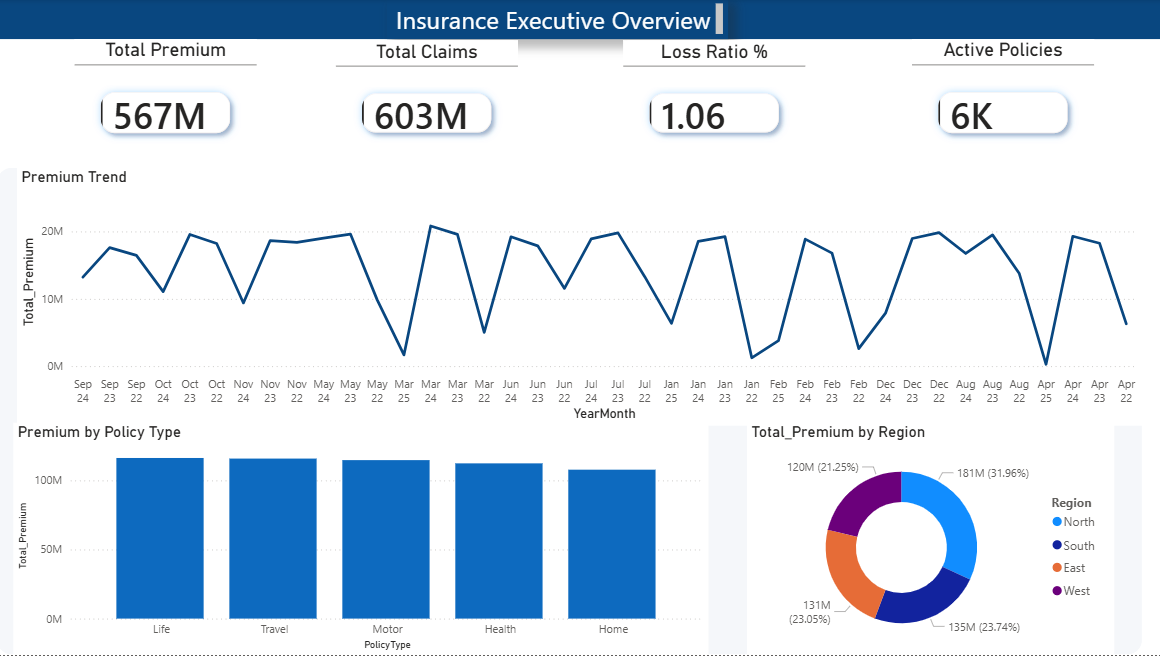

The page's visual inventory and layout, read from the dashboard file:
{"tool":"powerbi","page":{"name":"Page 1","canvas":[1280,720],"ordinal":0},"visuals":[{"type":"shape","box":[0,185.7,1257.1,534.3],"z":0},{"type":"shape","box":[0,0,1280,44],"z":1000},{"type":"lineChart","title":"Premium Trend","fields":{"Category":["DateTable.YearMonth"],"Y":["Measure_Table.Total_Premium"]},"box":[21.4,185.7,1235.7,282.9],"z":2000},{"type":"cardVisual","title":"Total Premium","fields":{"Data":["Measure_Table.Total_Premium"]},"box":[85.7,44.3,200,131.4],"z":3000},{"type":"lineClusteredColumnComboChart","title":"Premium by Policy Type","fields":{"Category":["Dim_Policy.PolicyType"],"Y":["Measure_Table.Total_Premium"]},"box":[18.3,465,763.3,255],"z":4000},{"type":"textbox","box":[428,0,374,44],"z":5000},{"type":"cardVisual","title":"Total Claims","fields":{"Data":["Measure_Table.Total_Claims_Amount"]},"box":[371.4,45.7,200,130],"z":6000},{"type":"cardVisual","title":"Loss Ratio %","fields":{"Data":["Measure_Table.Loss Ratio %"]},"box":[687.1,45.7,200,130],"z":7000},{"type":"cardVisual","title":"Active Policies","fields":{"Data":["Measure_Table.Active_Policies"]},"box":[1004.3,44.3,200,131.4],"z":8000},{"type":"donutChart","fields":{"Category":["Dim_Agent.Region"],"Y":["Measure_Table.Total_Premium"]},"box":[823.3,465,403.3,255],"z":8001}]}

Visuals, with their boxes in screenshot pixels (x1, y1, x2, y2), scaled from the page's 1280x720 canvas onto the 1160x656 screenshot:
shape: {"x1": 0, "y1": 169, "x2": 1139, "y2": 655}
shape: {"x1": 0, "y1": 0, "x2": 1159, "y2": 40}
"Premium Trend" lineChart: {"x1": 19, "y1": 169, "x2": 1139, "y2": 427}
"Total Premium" cardVisual: {"x1": 78, "y1": 40, "x2": 259, "y2": 160}
"Premium by Policy Type" lineClusteredColumnComboChart: {"x1": 17, "y1": 424, "x2": 708, "y2": 655}
textbox: {"x1": 388, "y1": 0, "x2": 727, "y2": 40}
"Total Claims" cardVisual: {"x1": 337, "y1": 42, "x2": 518, "y2": 160}
"Loss Ratio %" cardVisual: {"x1": 623, "y1": 42, "x2": 804, "y2": 160}
"Active Policies" cardVisual: {"x1": 910, "y1": 40, "x2": 1091, "y2": 160}
donutChart - Dim_Agent.Region x Measure_Table.Total_Premium: {"x1": 746, "y1": 424, "x2": 1112, "y2": 655}
